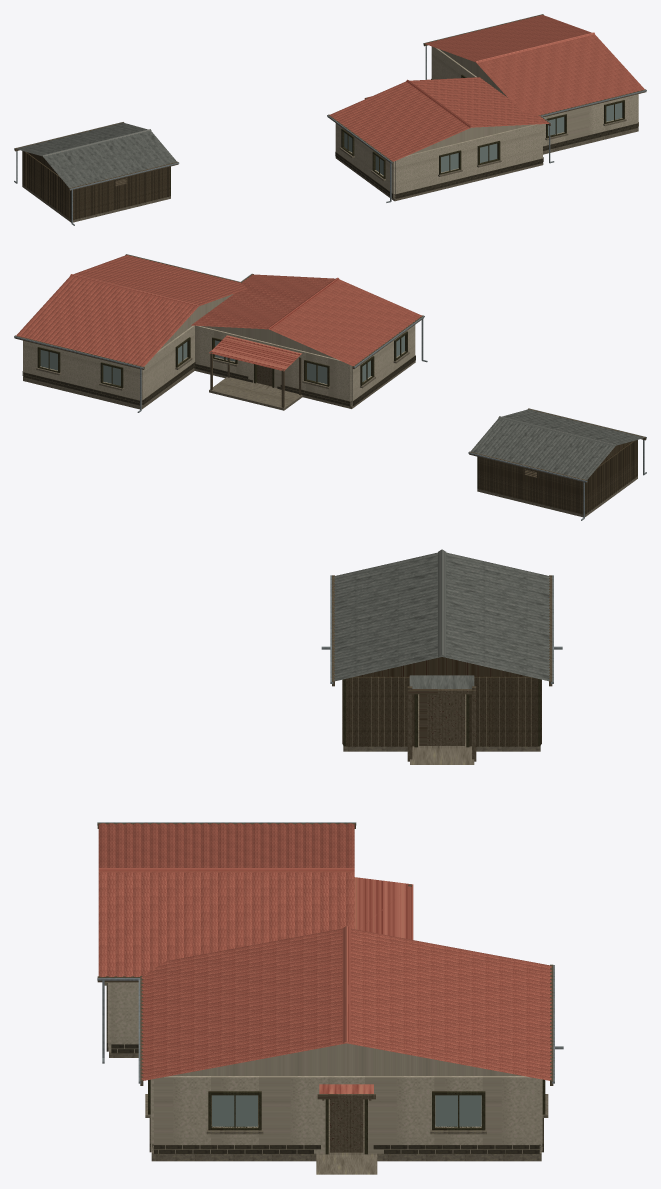
3 renders of one model, top to bottom at view 1: azimuth 30°, elevation 25°; view 2: azimuth 150°, elevation 25°; view 3: azimuth 270°, elevation 25°, orthographic. The views are drawn at different scales.
Parts seen in each view (by area): view 1: H10_TELHAS, H10_ALA_L_TELHAS, H10_OFICINA_CHAPAS_ONDULADAS, H10_ALA_L_FUNDOS, H10_OFICINA_LATERAIS, H10_OFICINA_MATA_JUNTAS, H10_LATERAIS, H10_OFICINA_FUNDOS, H10_ALA_L_LATERAIS, H10_ALA_L_EMBASAMENTO_PEDRA, H10_FUNDOS, H10_ALA_L_OITOES (+15 smaller); view 2: H10_TELHAS, H10_ALA_L_TELHAS, H10_OFICINA_CHAPAS_ONDULADAS, H10_ALA_L_FACHADA, H10_OFICINA_LATERAIS, H10_OFICINA_MATA_JUNTAS, H10_LATERAIS, H10_OFICINA_FUNDOS, H10_VARANDA_SERVICO_TELHADO, H10_FUNDOS, H10_VARANDA_SERVICO_PISO, H10_ALA_L_LATERAIS (+15 smaller); view 3: H10_TELHAS, H10_ALA_L_TELHAS, H10_OFICINA_CHAPAS_ONDULADAS, H10_FACHADA, H10_OFICINA_FACHADA, H10_OITOES, H10_VARANDA_SERVICO_TELHADO, H10_EMBASAMENTO_PEDRA, H10_FUNDACAO, H10_VIDROS_RECUADOS, H10_OFICINA_MATA_JUNTAS, H10_OFICINA_PORTA_FOLHA (+11 smaller).
Part boxes in pixels (<box>): H10_TELHAS: <box>425,15,644,115</box>; H10_ALA_L_TELHAS: <box>329,77,549,161</box>; H10_OFICINA_CHAPAS_ONDULADAS: <box>16,122,176,187</box>; H10_ALA_L_FUNDOS: <box>395,124,542,198</box>; H10_OFICINA_LATERAIS: <box>73,167,169,219</box>; H10_OFICINA_MATA_JUNTAS: <box>23,151,168,219</box>; H10_LATERAIS: <box>543,94,637,146</box>; H10_OFICINA_FUNDOS: <box>22,151,70,219</box>; H10_ALA_L_LATERAIS: <box>335,123,542,197</box>; H10_ALA_L_EMBASAMENTO_PEDRA: <box>335,151,543,198</box>; H10_FUNDOS: <box>431,46,476,79</box>; H10_ALA_L_OITOES: <box>410,124,532,154</box>; H10_TELHAS: <box>16,255,247,366</box>; H10_ALA_L_TELHAS: <box>191,274,421,365</box>; H10_OFICINA_CHAPAS_ONDULADAS: <box>470,409,644,479</box>; H10_ALA_L_FACHADA: <box>195,325,351,405</box>; H10_OFICINA_LATERAIS: <box>478,457,583,514</box>; H10_OFICINA_MATA_JUNTAS: <box>479,440,637,514</box>; H10_LATERAIS: <box>23,341,139,400</box>; H10_OFICINA_FUNDOS: <box>585,440,637,514</box>; H10_VARANDA_SERVICO_TELHADO: <box>209,335,301,371</box>; H10_FUNDOS: <box>141,325,194,404</box>; H10_VARANDA_SERVICO_PISO: <box>209,377,302,410</box>; H10_ALA_L_LATERAIS: <box>351,325,415,405</box>; H10_TELHAS: <box>141,928,551,1080</box>; H10_ALA_L_TELHAS: <box>98,823,354,976</box>; H10_OFICINA_CHAPAS_ONDULADAS: <box>334,552,549,681</box>; H10_FACHADA: <box>154,1076,539,1153</box>; H10_OFICINA_FACHADA: <box>346,676,538,746</box>; H10_OITOES: <box>171,1043,521,1075</box>; H10_VARANDA_SERVICO_TELHADO: <box>354,877,413,939</box>; H10_EMBASAMENTO_PEDRA: <box>149,1118,543,1153</box>; H10_FUNDACAO: <box>151,1095,541,1161</box>; H10_VIDROS_RECUADOS: <box>212,1095,481,1126</box>; H10_OFICINA_MATA_JUNTAS: <box>342,677,541,746</box>; H10_OFICINA_PORTA_FOLHA: <box>419,694,464,745</box>.
Size of the model in its own units: 38.71 by 4.28 by 14.51.
Materials: 11 (10 with a texture image).
